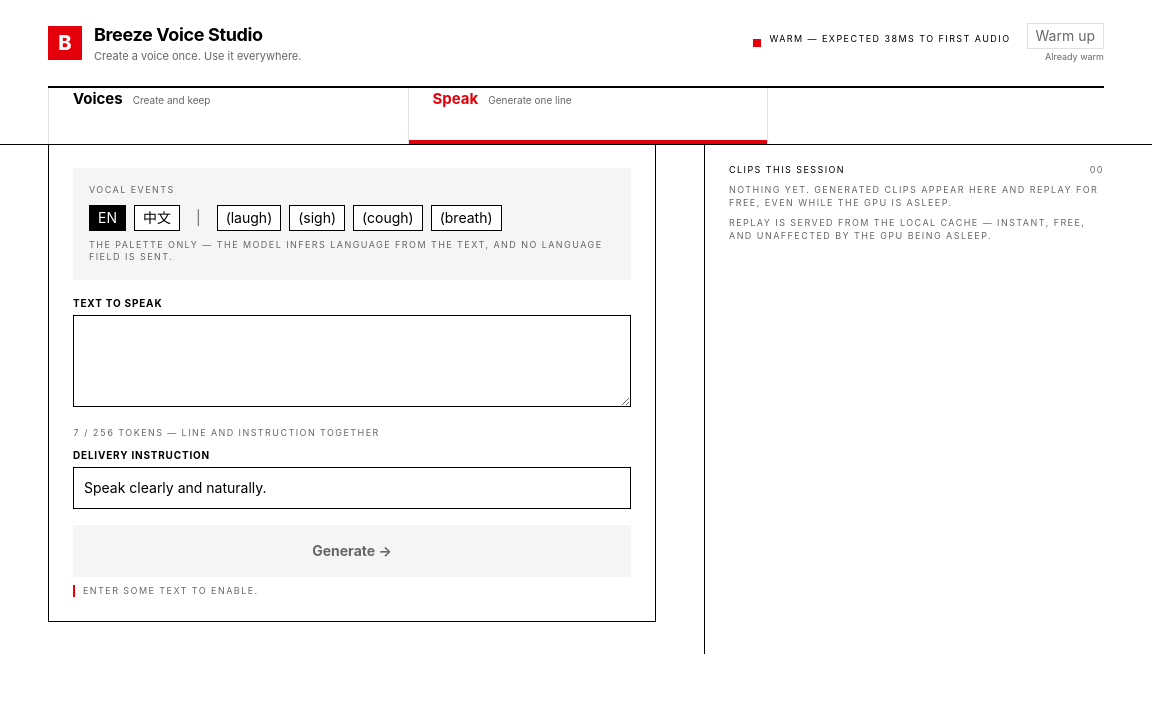
a 409 that may be someone else › drops the held request when the viewer stops waiting
(page scrolled)
Expected: the text "Warm — expected 38ms to first audio" is shown, [769,33,1010,45]
Type "A line the viewer stopped waiting for." into the text box labelled "Text to speak" at point(352, 361), box [73,315,631,407]
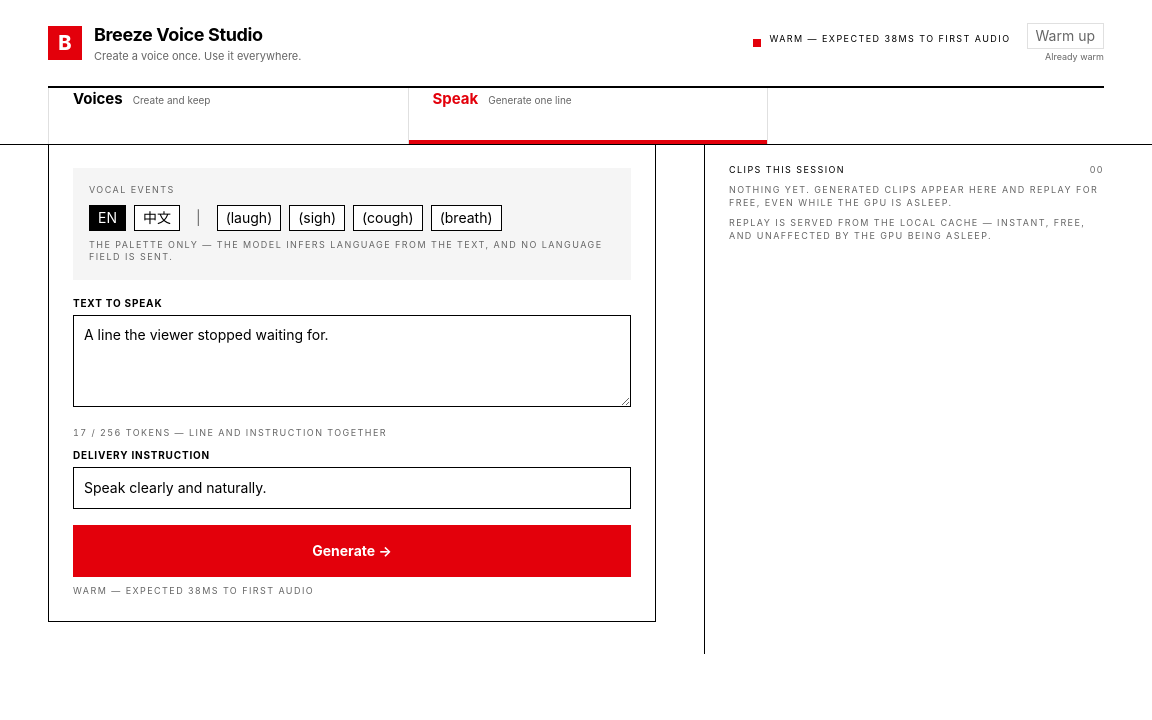
Click the button "Generate →" at point(352, 551), box [73,525,631,577]
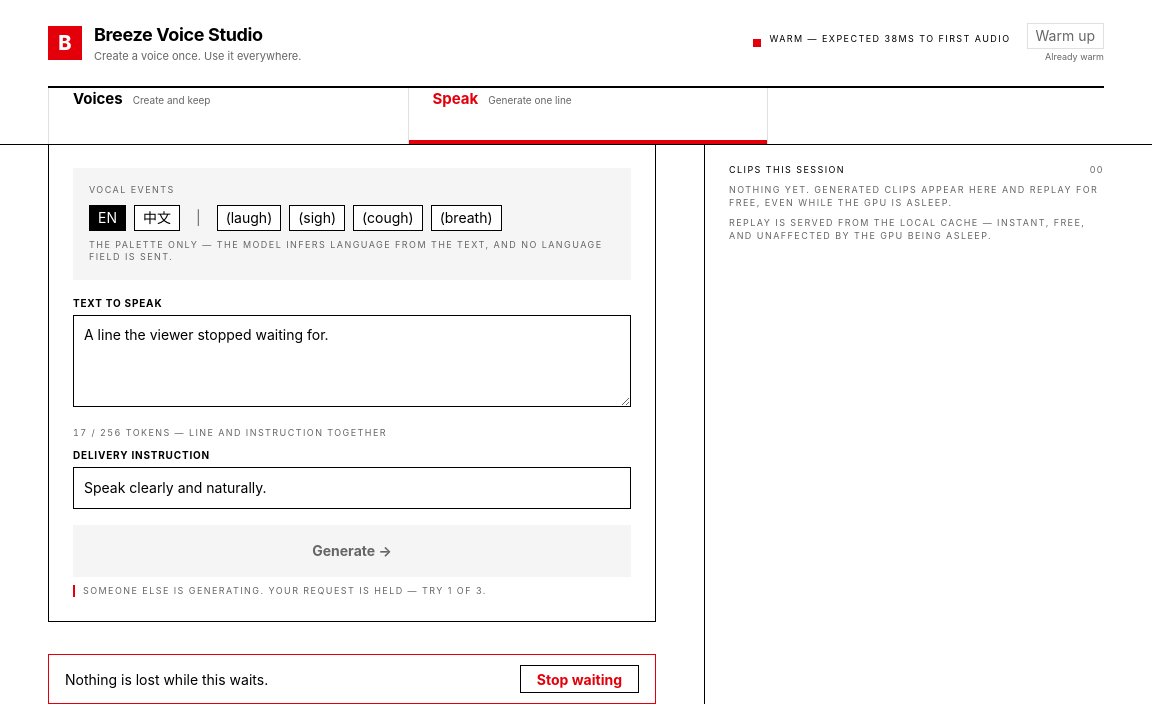
Now the message named "Generate status" shows "Someone else is generating", box [83,585,487,596]
Click the button "Stop waiting" at point(579, 680), box [520,666,639,694]
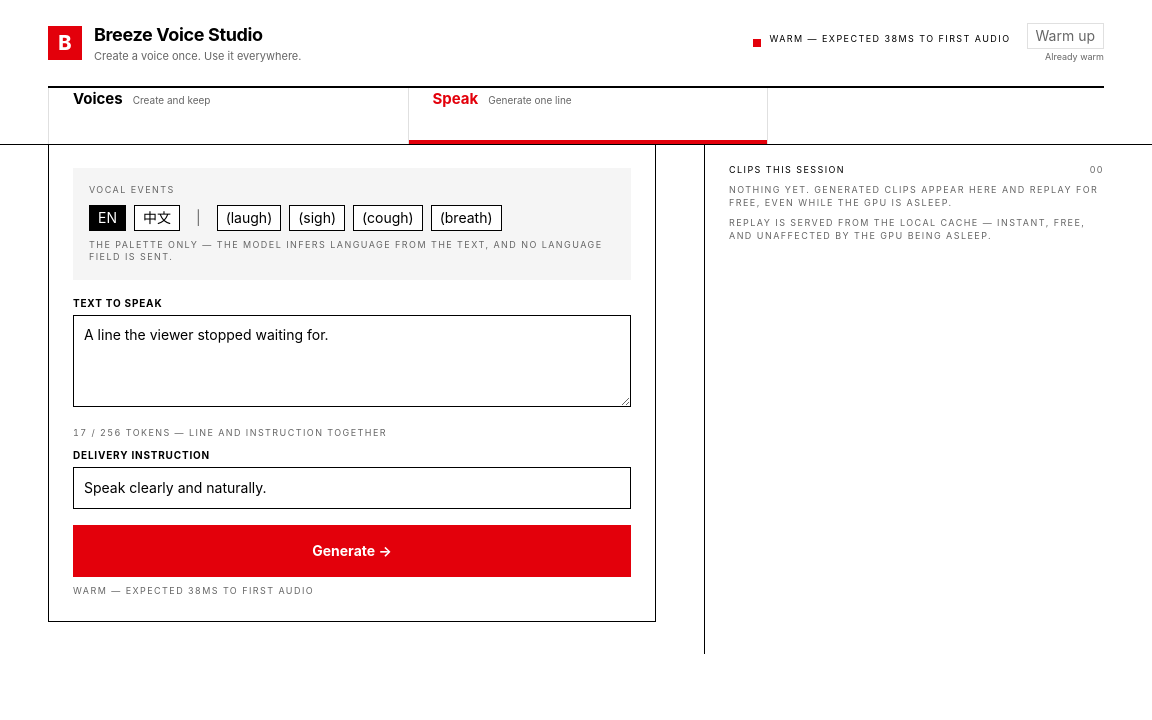
Now the text "Someone else is generating" is gone
